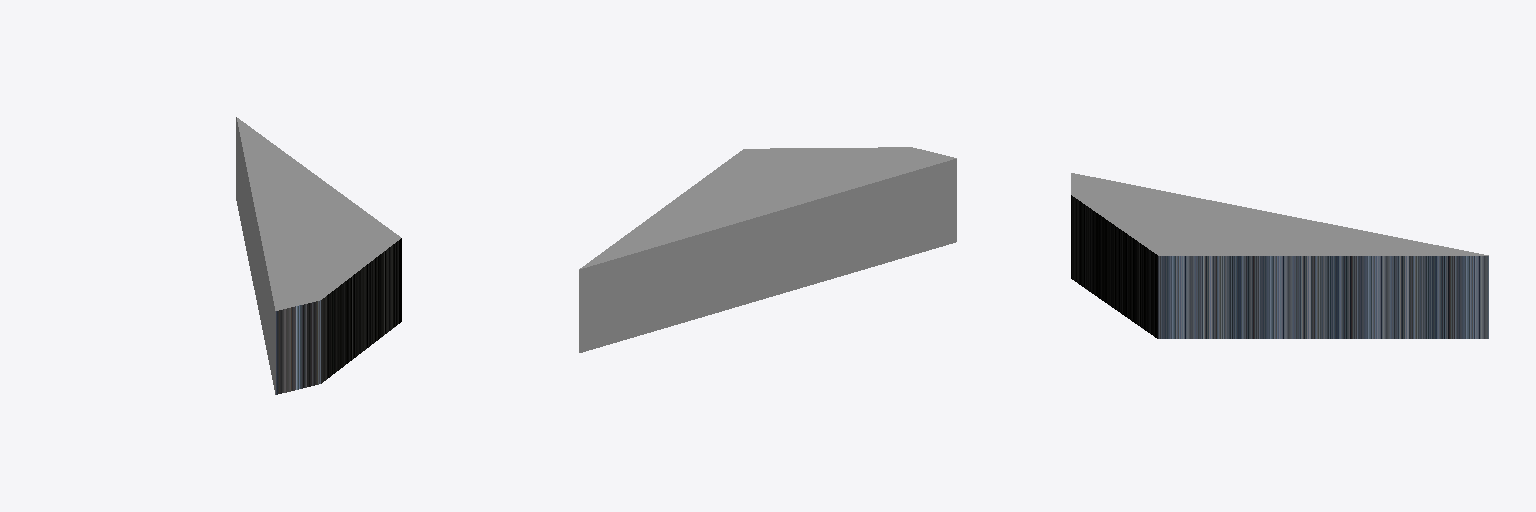
3 renders of one model, left to right at view 1: azimuth 30°, elevation 25°; view 2: azimuth 150°, elevation 25°; view 3: azimuth 270°, elevation 25°, orthographic.
Visible parts, largest first — view 1: Plane.007; view 2: Plane.007; view 3: Plane.007.
Part boxes in pixels (x1,y1,x2,y2): Plane.007: (236,117,401,394); Plane.007: (579,147,956,352); Plane.007: (1071,173,1488,338).
Size of the model in its own units: 225 by 106 by 480.
3 materials, 2 textured.